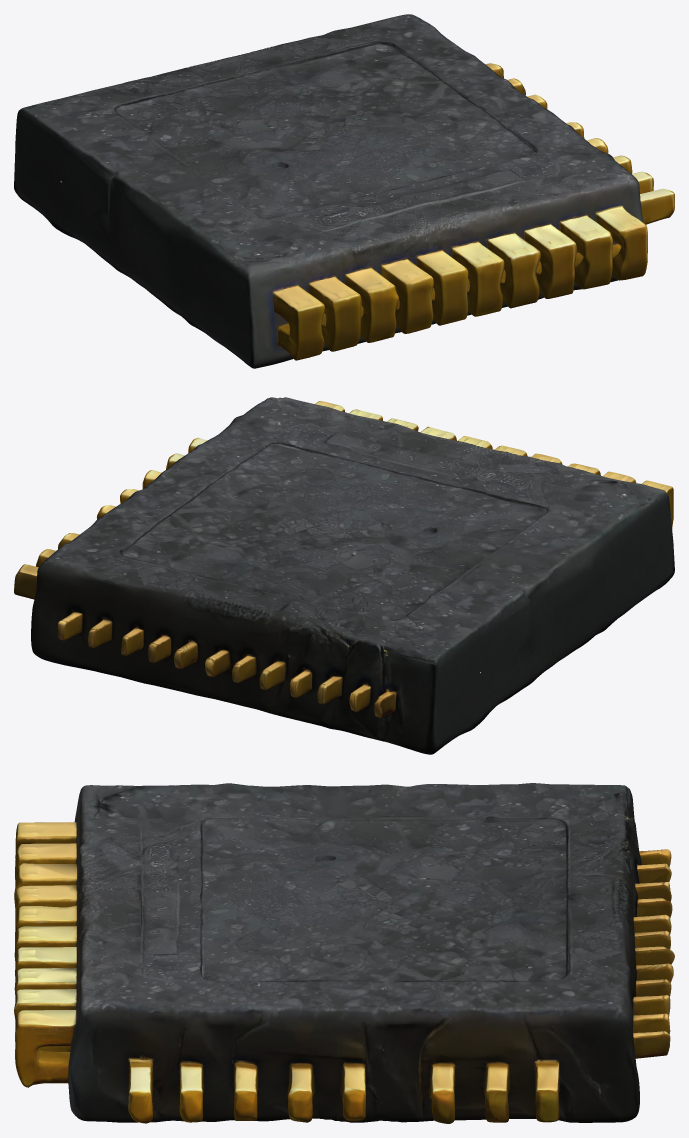
The model's file is chip.opt.glb.
3 views of the same model, one above another, from view 1: azimuth 30°, elevation 25°; view 2: azimuth 150°, elevation 25°; view 3: azimuth 270°, elevation 25° (orthographic). The views are drawn at different scales.
Parts seen in each view (by area): view 1: tripo_node_39545b36-700b-4d85-9280-6182dbb55573; view 2: tripo_node_39545b36-700b-4d85-9280-6182dbb55573; view 3: tripo_node_39545b36-700b-4d85-9280-6182dbb55573.
Part boxes in pixels (x1,y1,x2,y2): tripo_node_39545b36-700b-4d85-9280-6182dbb55573: (14, 14, 674, 368); tripo_node_39545b36-700b-4d85-9280-6182dbb55573: (14, 397, 674, 754); tripo_node_39545b36-700b-4d85-9280-6182dbb55573: (14, 783, 674, 1123).
Bounding box in the file's own units: 0.9248 × 0.1977 × 0.9809.
1 material, 1 textured.
